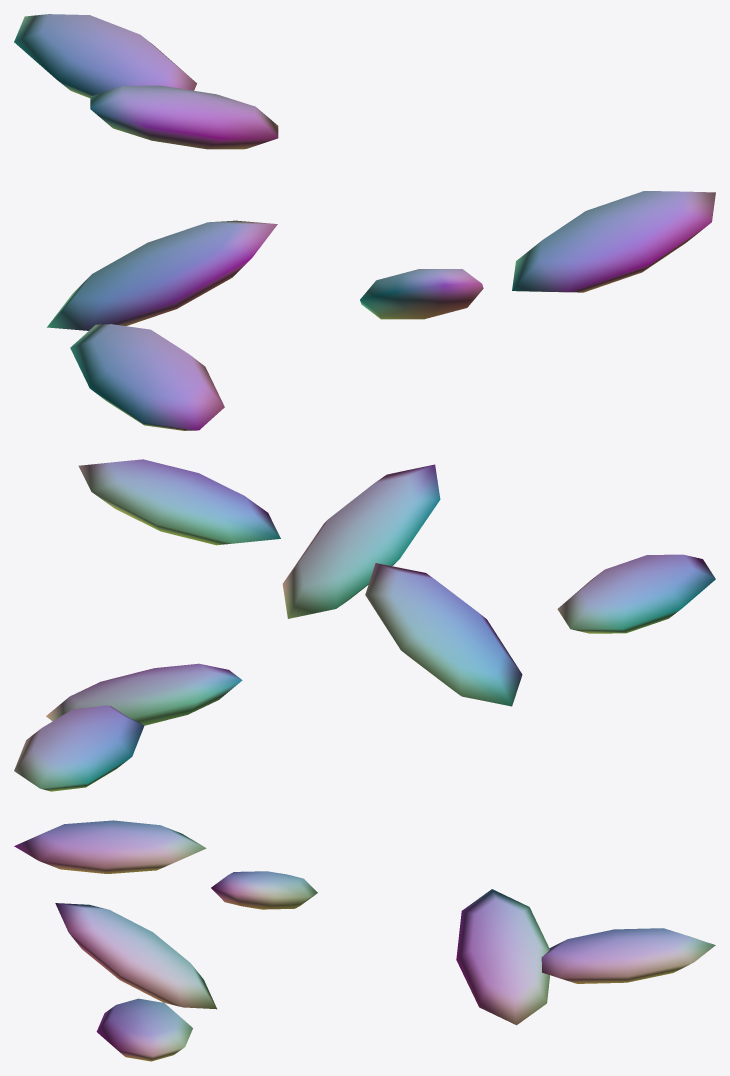
File: env_deco_shells.glb
3 views of the same model, one above another, from view 1: azimuth 30°, elevation 25°; view 2: azimuth 150°, elevation 25°; view 3: azimuth 270°, elevation 25° (orthographic). The views are drawn at different scales.
Parts seen in each view (by area): view 1: env_deco_shells_mesh; view 2: env_deco_shells_mesh; view 3: env_deco_shells_mesh.
Part boxes in pixels (<box>): env_deco_shells_mesh: <box>14,14,715,430</box>; env_deco_shells_mesh: <box>14,459,715,791</box>; env_deco_shells_mesh: <box>14,820,715,1061</box>.
Size of the model in its own units: 0.3562 by 0.0575 by 0.4342.
